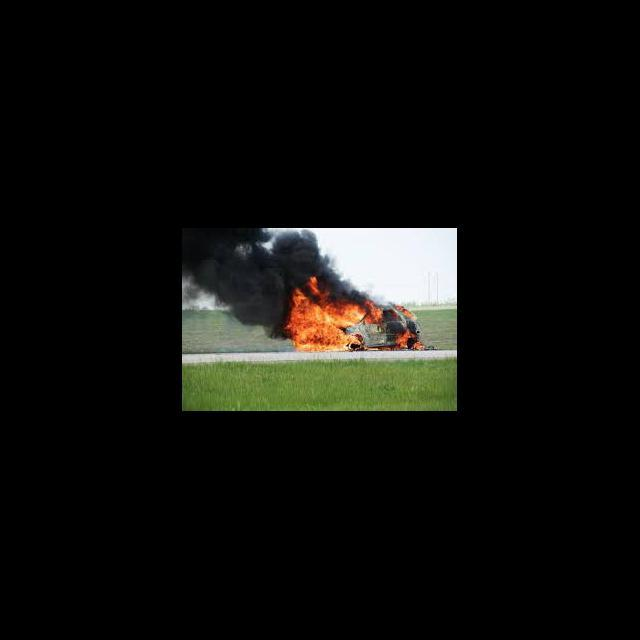Fire: (286, 276, 424, 352)
Smoke: (182, 228, 282, 342), (281, 228, 342, 274)
